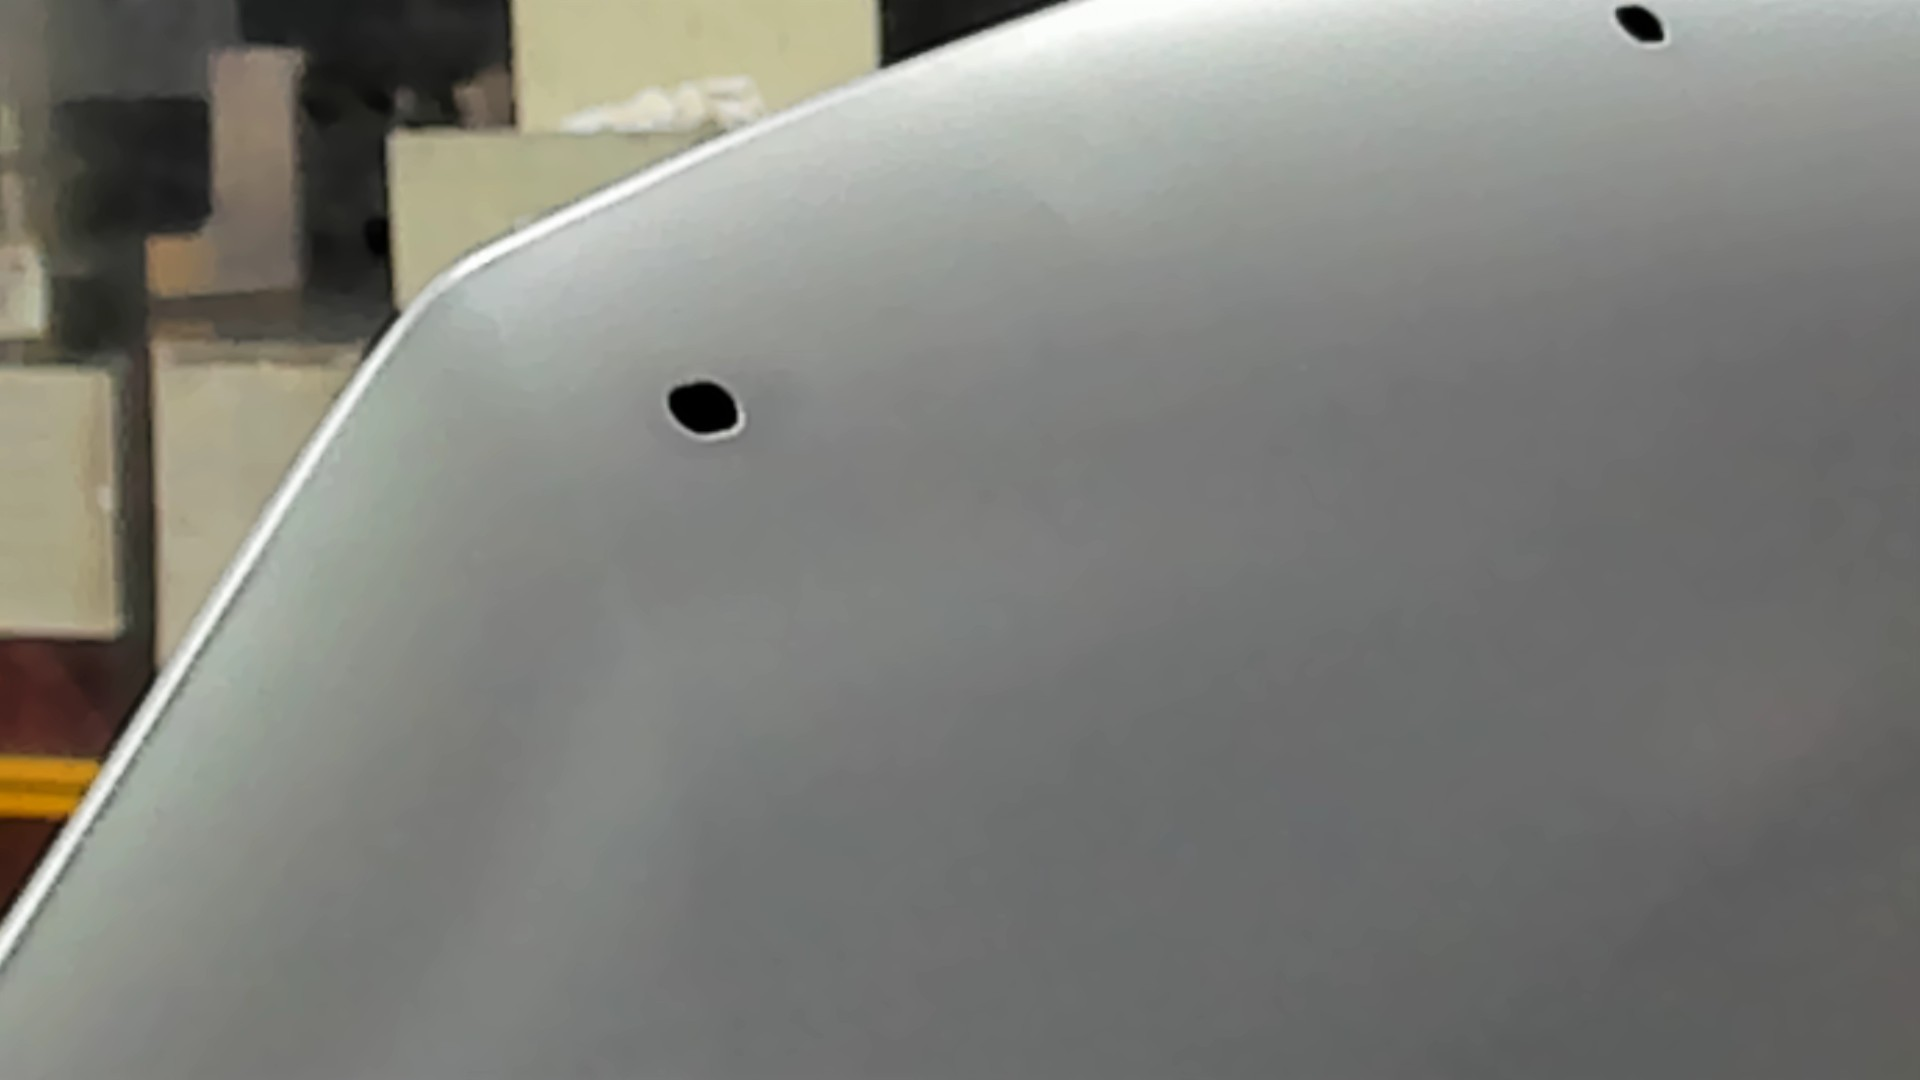amorfo: (659, 369, 756, 446), (1602, 1, 1673, 58)
capo: (864, 113, 1920, 1080)
